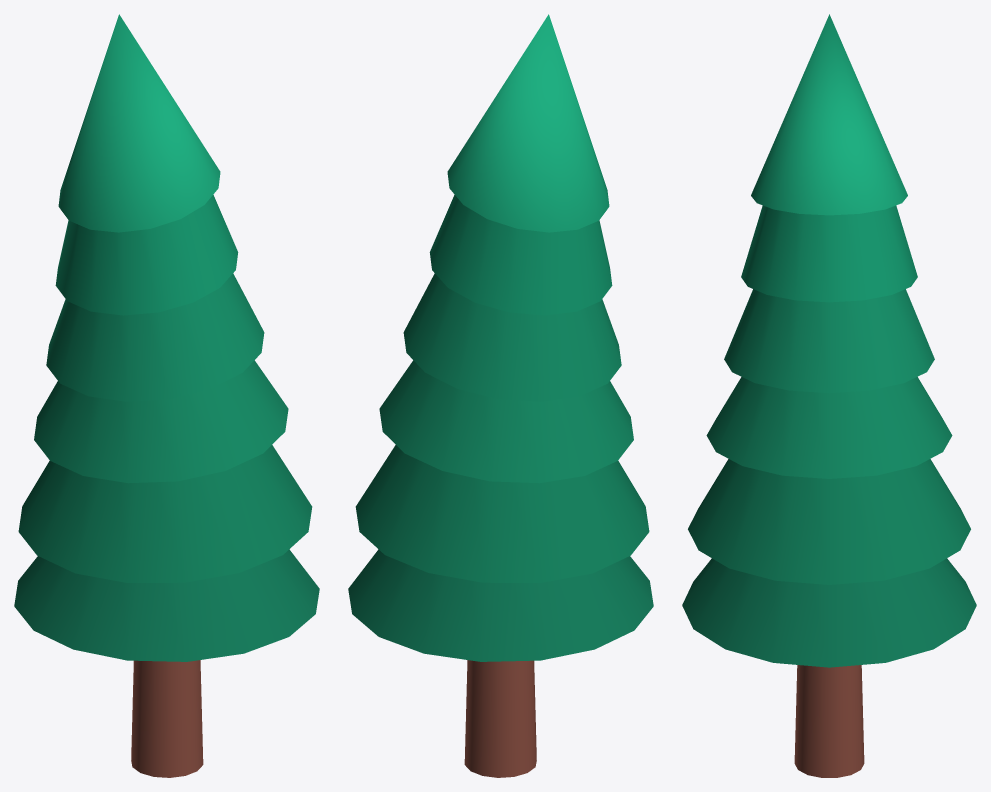
File: Spruce_Cold_Turquoise_Thin_3.fbx
3 renders of one model, left to right at view 1: azimuth 30°, elevation 25°; view 2: azimuth 150°, elevation 25°; view 3: azimuth 270°, elevation 25°, orthographic. The views are drawn at different scales.
Visible parts, largest first — view 1: Cylinder.145, Cylinder.144, Cylinder.146, Cylinder.147, Cylinder.149, Cylinder.148, Cylinder.143; view 2: Cylinder.145, Cylinder.144, Cylinder.146, Cylinder.147, Cylinder.149, Cylinder.148, Cylinder.143; view 3: Cylinder.145, Cylinder.144, Cylinder.147, Cylinder.149, Cylinder.146, Cylinder.148, Cylinder.143.
Boxes of the visible parts, x1,y1,x2,y2 form: Cylinder.145: (18, 445, 312, 582); Cylinder.144: (14, 549, 319, 661); Cylinder.146: (58, 14, 220, 232); Cylinder.147: (34, 360, 288, 483); Cylinder.149: (46, 273, 264, 401); Cylinder.148: (55, 194, 238, 315); Cylinder.143: (131, 660, 203, 777); Cylinder.145: (355, 445, 649, 582); Cylinder.144: (348, 549, 653, 661); Cylinder.146: (447, 14, 609, 232); Cylinder.147: (379, 360, 633, 483); Cylinder.149: (403, 273, 621, 401); Cylinder.148: (429, 194, 612, 315); Cylinder.143: (464, 660, 536, 777); Cylinder.145: (688, 459, 970, 584); Cylinder.144: (682, 558, 976, 667); Cylinder.147: (706, 377, 952, 478); Cylinder.149: (724, 289, 934, 393); Cylinder.146: (751, 14, 907, 215); Cylinder.148: (741, 205, 917, 302); Cylinder.143: (794, 665, 864, 777).
Size of the model in its own units: 195 by 532 by 195.
